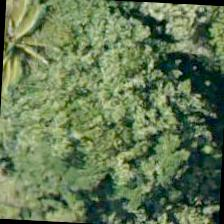Kelapa_Sawit: (2, 0, 61, 83)
